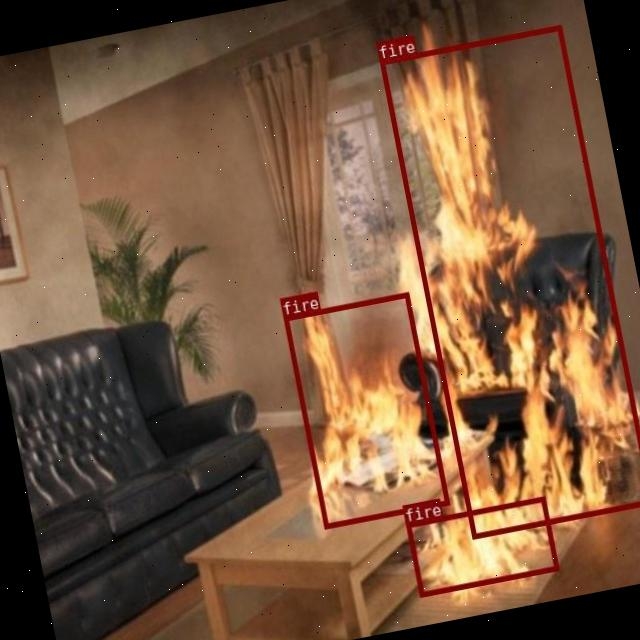fire: (379, 24, 640, 538), (284, 292, 450, 528), (405, 497, 558, 598)
